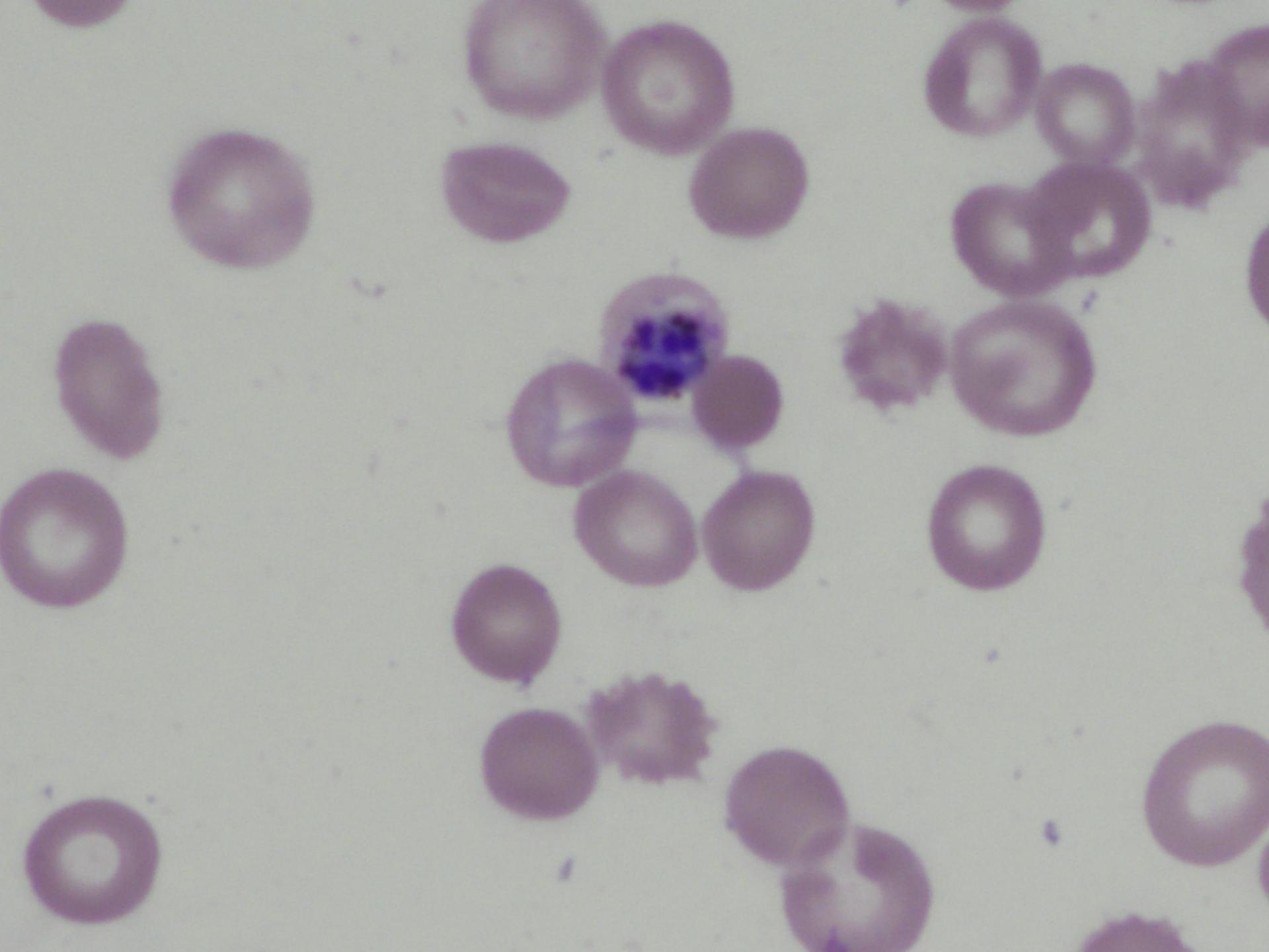Infected: (595, 275, 727, 401)
Uninfected: (170, 126, 310, 269), (954, 305, 1097, 442), (1141, 721, 1269, 867), (784, 820, 925, 952), (26, 794, 157, 926), (511, 355, 637, 491), (467, 1, 608, 121), (610, 21, 729, 153), (2, 474, 119, 608), (930, 463, 1046, 591), (952, 184, 1074, 303), (53, 316, 157, 455), (573, 470, 696, 586), (1146, 60, 1244, 204), (1027, 164, 1153, 273), (588, 675, 711, 785), (447, 135, 567, 247), (925, 16, 1038, 134), (731, 743, 840, 865), (690, 122, 805, 237), (480, 712, 598, 820), (707, 470, 809, 594), (839, 302, 946, 413), (454, 562, 555, 679), (1024, 65, 1140, 166), (696, 355, 781, 450), (1210, 23, 1269, 145)
